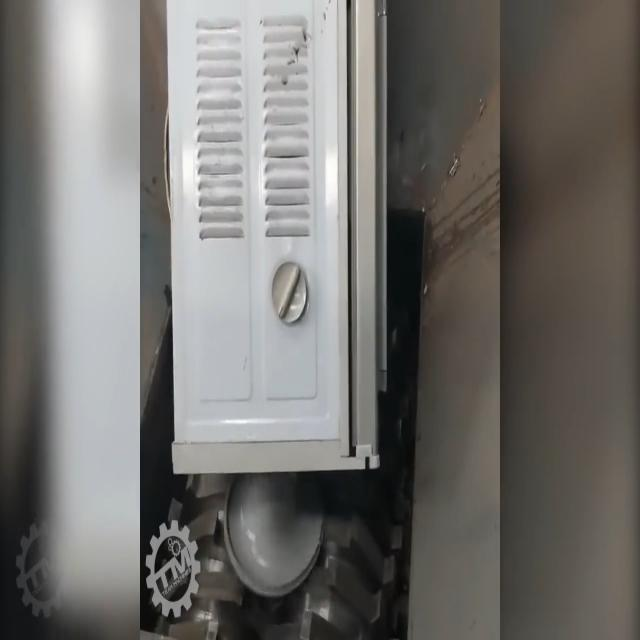Broyeur: (138, 369, 427, 640)
